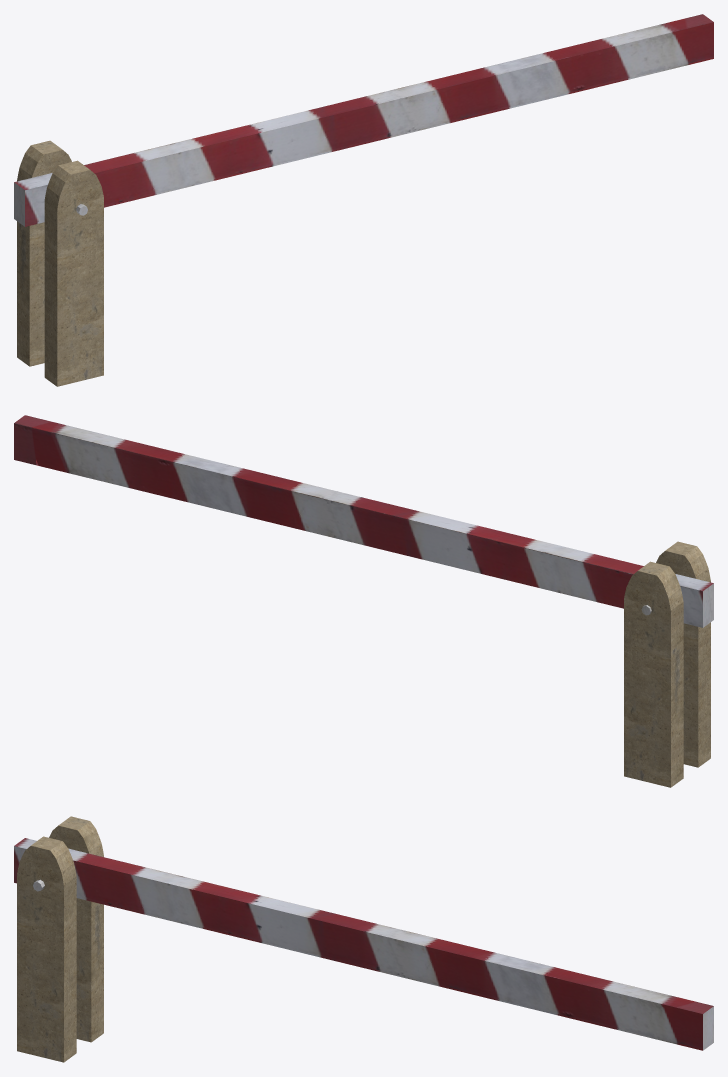
File: BarreraPeaje.obj
3 views of the same model, one above another, from view 1: azimuth 30°, elevation 25°; view 2: azimuth 150°, elevation 25°; view 3: azimuth 330°, elevation 25° (orthographic).
Visible parts, largest first — view 1: Cylinder, Cube.001; view 2: Cylinder, Cube.001; view 3: Cylinder, Cube.001.
Boxes of the visible parts, bbox=[...] form: Cylinder: bbox=[14, 14, 713, 226]; Cube.001: bbox=[17, 140, 103, 386]; Cylinder: bbox=[14, 415, 713, 627]; Cube.001: bbox=[624, 541, 710, 787]; Cylinder: bbox=[14, 838, 713, 1050]; Cube.001: bbox=[17, 816, 103, 1062].
Size of the model in its own units: 3.02 by 0.8758 by 0.3378.
Materials: 2 (2 with a texture image).
